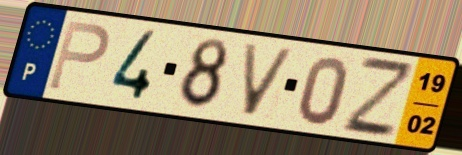0: (293, 52, 352, 128)
4: (107, 27, 159, 105)
8: (174, 36, 229, 113)
P: (45, 18, 113, 93)
V: (240, 40, 299, 119)
Z: (339, 53, 415, 140)
